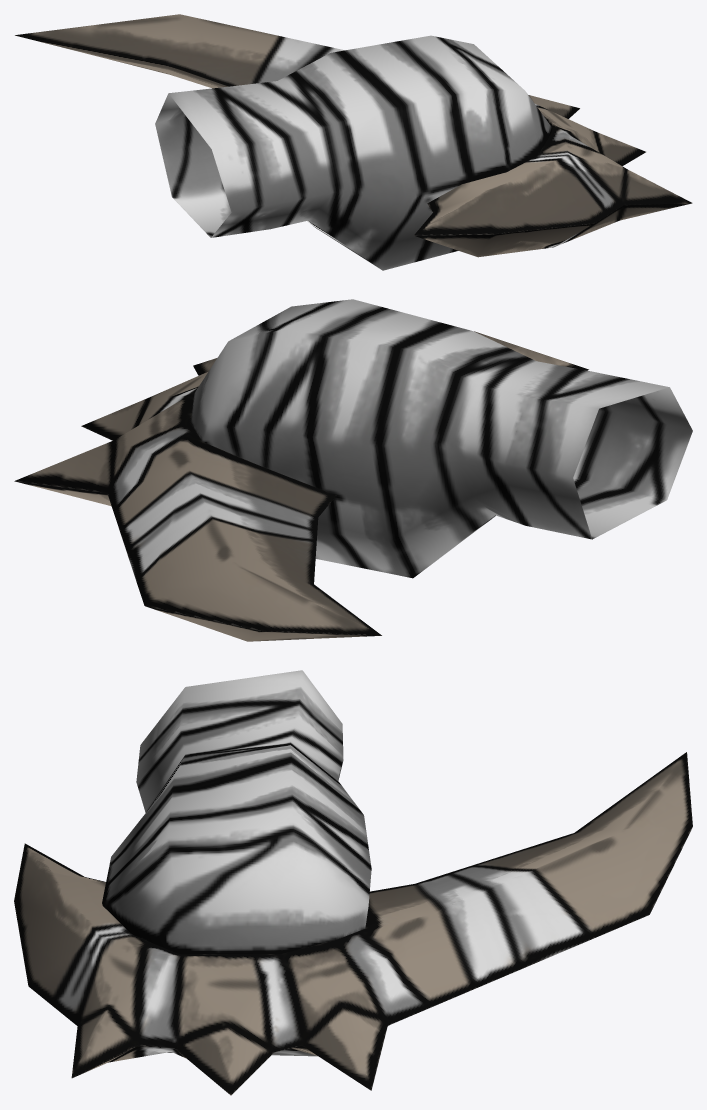
File: WP_0H_Claw01.FBX
The picture shows the model from 3 angles, top to bottom: view 1: azimuth 30°, elevation 25°; view 2: azimuth 150°, elevation 25°; view 3: azimuth 270°, elevation 25°; orthographic projection. The views are drawn at different scales.
Parts seen in each view (by area): view 1: WP_0H_Claw01; view 2: WP_0H_Claw01; view 3: WP_0H_Claw01.
Boxes of the visible parts, left/top/right/bottom form: WP_0H_Claw01: left=15, top=14, right=692, bottom=270; WP_0H_Claw01: left=14, top=299, right=692, bottom=641; WP_0H_Claw01: left=14, top=670, right=692, bottom=1095.
Bounding box in the file's own units: 60.34 × 24.42 × 66.78.
